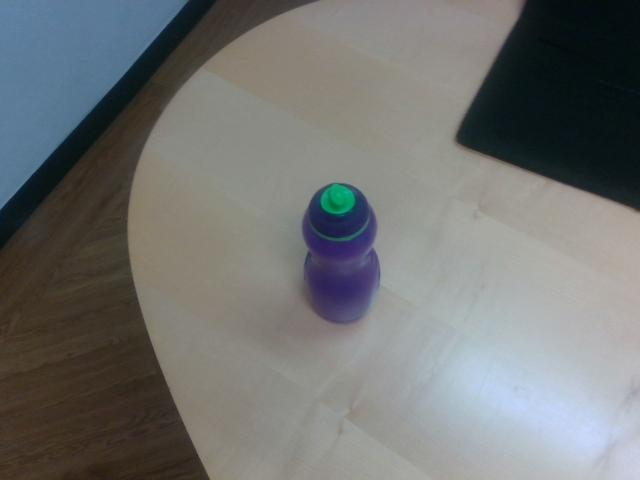bottle: (302, 185, 380, 324)
